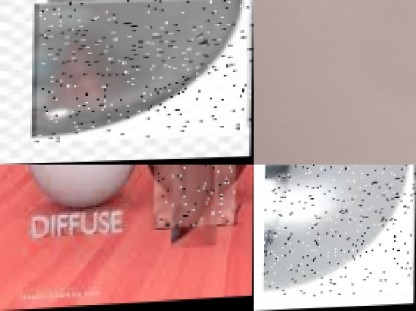ironball: (36, 0, 253, 143), (263, 165, 415, 299), (153, 165, 235, 231), (349, 144, 403, 165), (322, 0, 369, 5)
